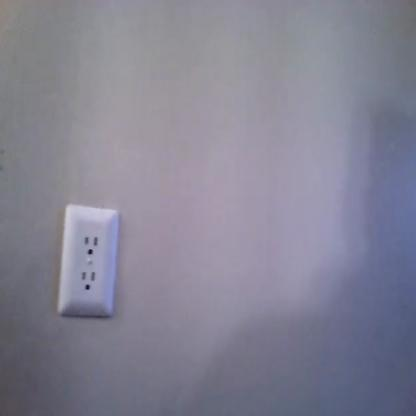OUTLET: (58, 204, 116, 314)
